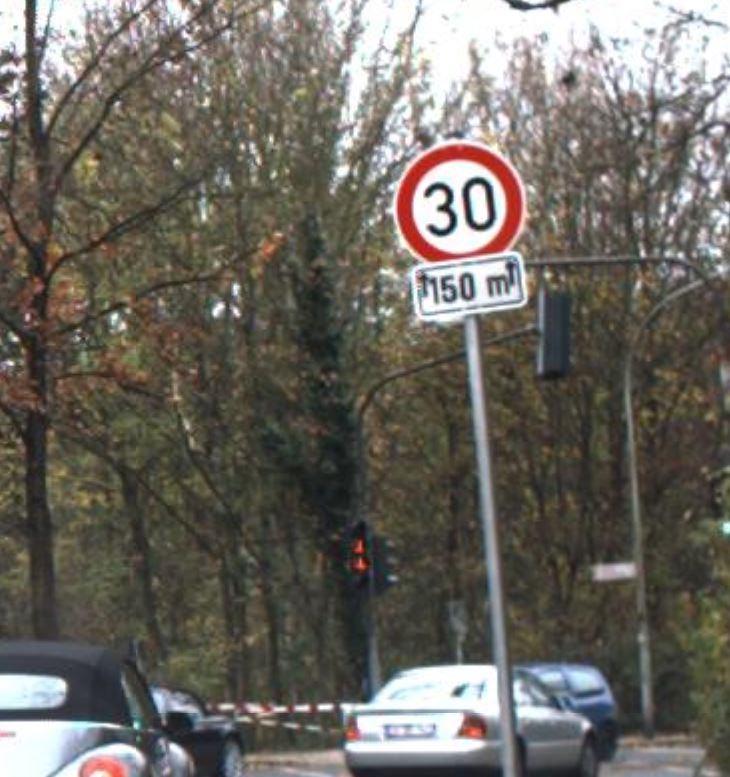30 Km Hiz Siniri: (391, 144, 530, 267)
